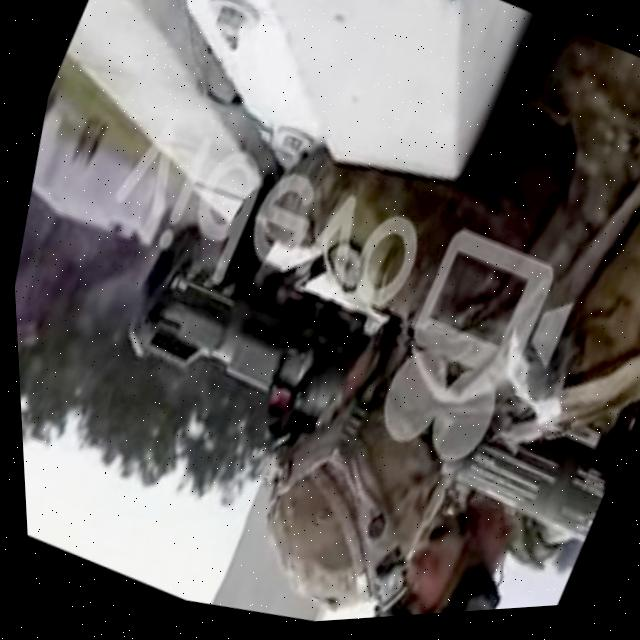rocket: (76, 181, 640, 589)
